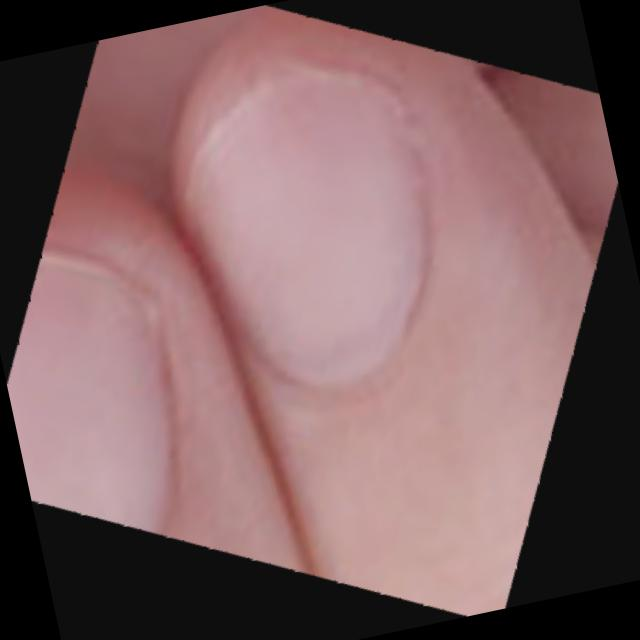Nail: (180, 76, 423, 382)
